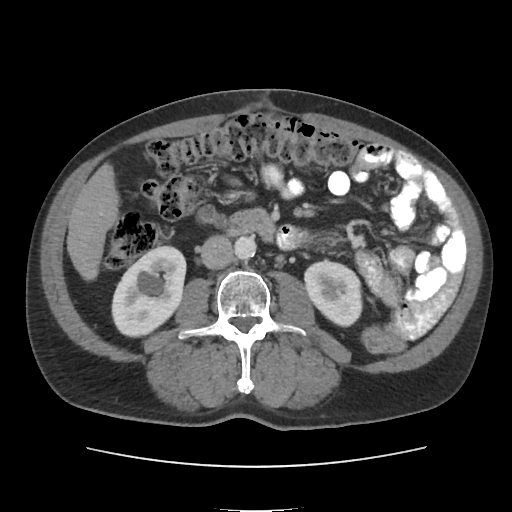Lesion: (134, 265, 169, 300)
